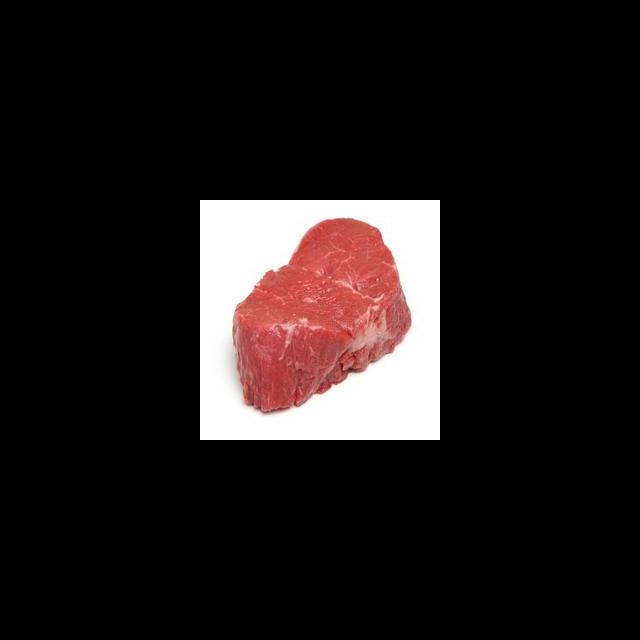beef: (233, 214, 407, 411)
